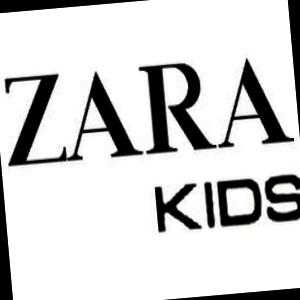zara: (0, 46, 296, 173)
